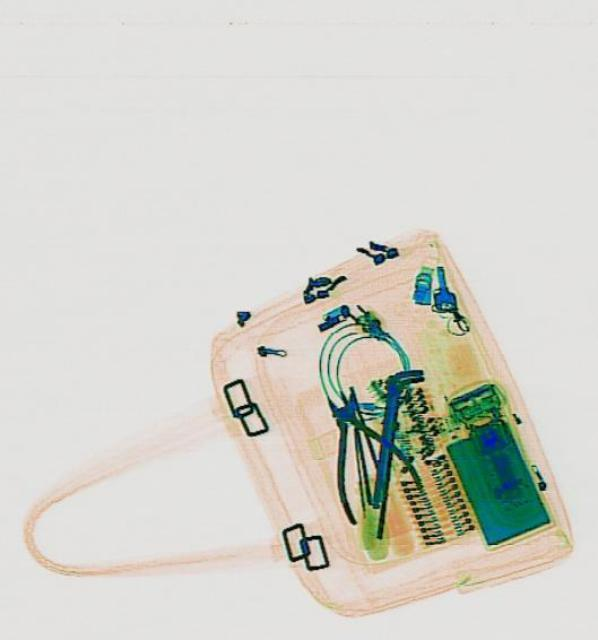Pliers: (290, 372, 426, 526)
